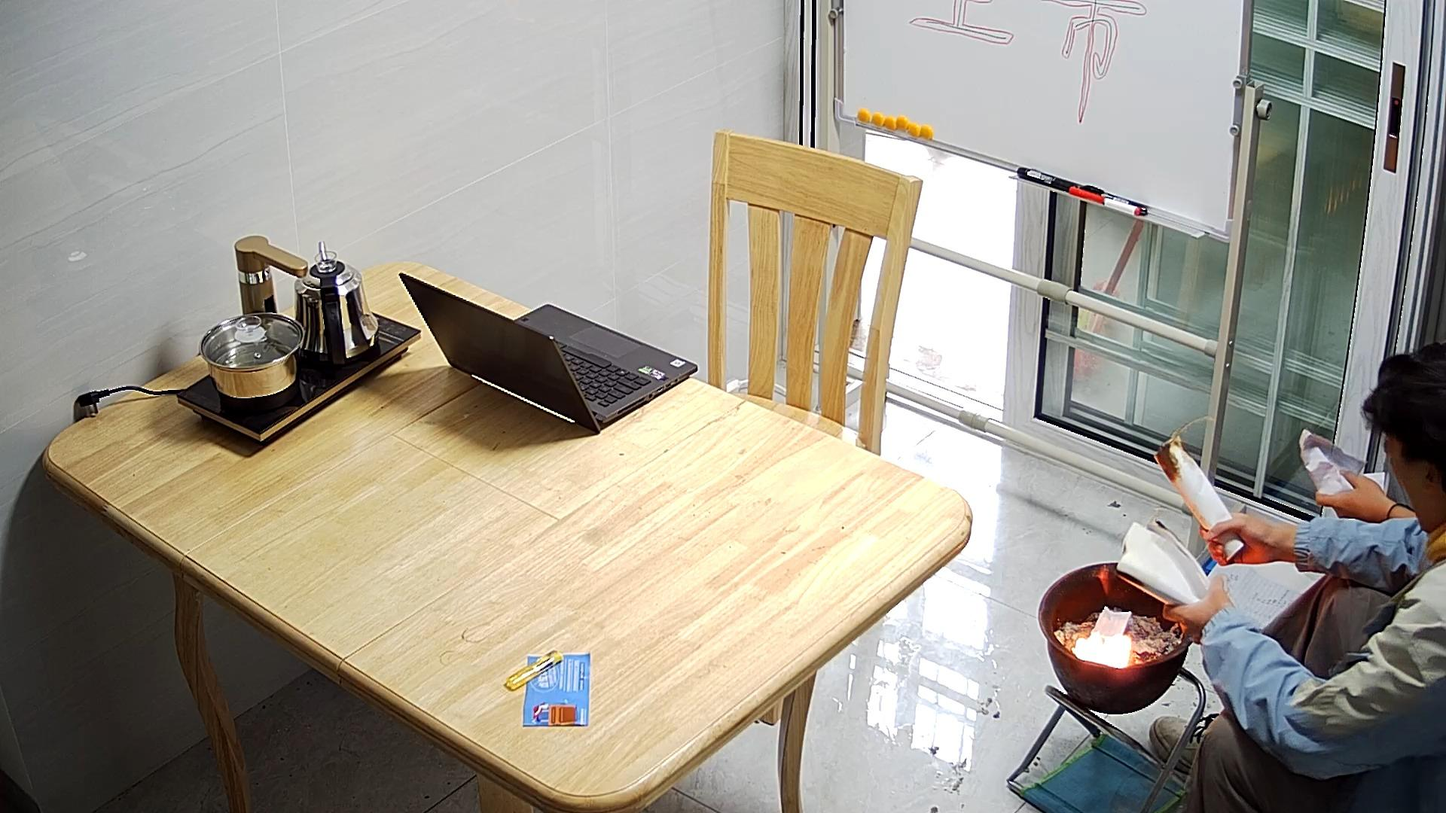fire: (1072, 629, 1131, 668)
